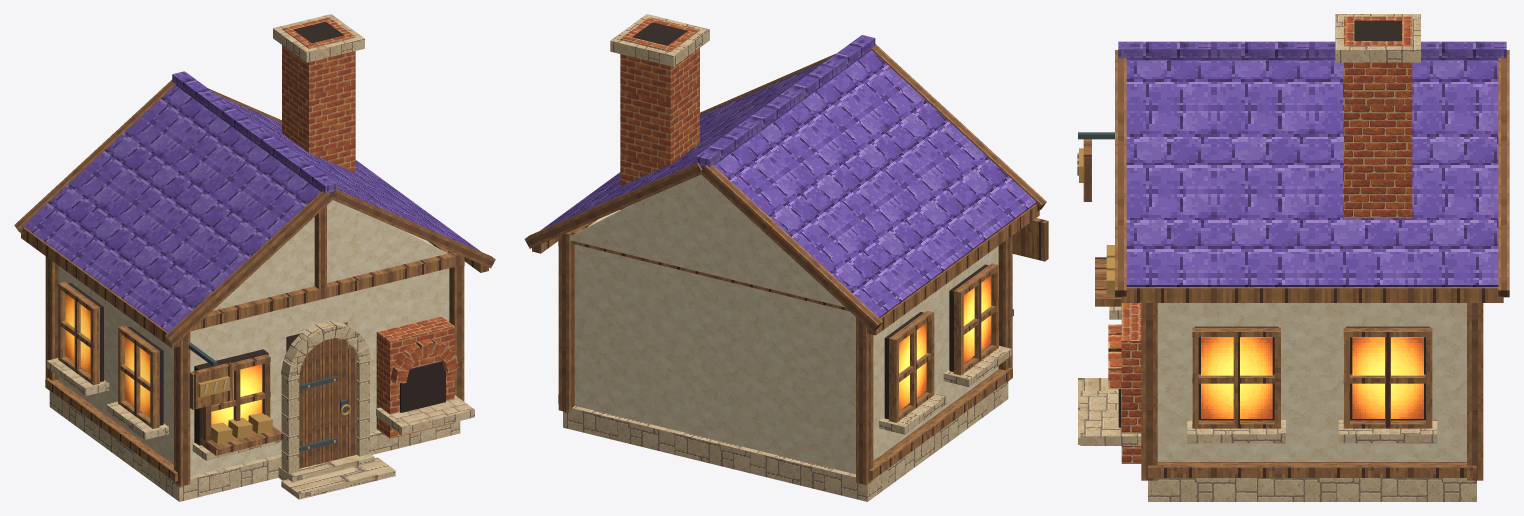
The picture shows the model from 3 angles, left to right: view 1: azimuth 30°, elevation 25°; view 2: azimuth 150°, elevation 25°; view 3: azimuth 270°, elevation 25°; orthographic projection. The views are drawn at different scales.
Parts seen in each view (by area): view 1: Painted tiled roof, Cream bakery walls, Infilled gable, Brick flue, Dressed limestone footing, Painted tiled roof.001, Gable collar, Brick oven breast, Tile ridge cap, Oak bargeboard, Corner timber, Shop side timber band (+29 smaller); view 2: Cream bakery walls, Painted tiled roof, Infilled gable.001, Dressed limestone footing, Brick flue, Painted tiled roof.001, Tile ridge cap, Oak bargeboard.001, Corner timber.003, Corner timber.001, Shop side timber band, Eave fascia (+15 smaller); view 3: Painted tiled roof.001, Cream bakery walls, Brick flue, Dressed limestone footing, Tile ridge cap, Eave fascia.001, Shop side timber band.002, Shop side warm panes.002, Shop side warm panes.003, Brick oven breast, Corner timber.002, Corner timber.003 (+24 smaller).
Boxes of the visible parts, <box> form: Painted tiled roof: <box>23,85,320,332</box>; Cream bakery walls: <box>58,233,449,476</box>; Infilled gable: <box>213,200,446,310</box>; Brick flue: <box>282,17,355,172</box>; Dressed limestone footing: <box>49,391,460,501</box>; Painted tiled roof.001: <box>217,95,480,251</box>; Gable collar: <box>190,252,463,331</box>; Brick oven breast: <box>376,316,454,438</box>; Tile ridge cap: <box>172,71,337,194</box>; Oak bargeboard: <box>165,191,333,345</box>; Corner timber: <box>174,332,190,486</box>; Shop side timber band: <box>45,378,177,481</box>; Cream bakery walls: <box>575,210,998,474</box>; Painted tiled roof: <box>714,50,1036,317</box>; Infilled gable.001: <box>570,174,844,307</box>; Dressed limestone footing: <box>563,382,1008,501</box>; Brick flue: <box>620,17,699,209</box>; Painted tiled roof.001: <box>540,61,825,230</box>; Tile ridge cap: <box>696,35,875,168</box>; Oak bargeboard.001: <box>700,165,882,332</box>; Corner timber.003: <box>558,229,576,412</box>; Corner timber.001: <box>856,317,873,485</box>; Shop side timber band: <box>869,367,1012,479</box>; Eave fascia: <box>867,204,1039,335</box>; Painted tiled roof.001: <box>1126,60,1498,286</box>; Cream bakery walls: <box>1157,303,1466,461</box>; Brick flue: <box>1344,16,1412,218</box>; Dressed limestone footing: <box>1148,478,1476,501</box>; Tile ridge cap: <box>1118,41,1506,60</box>; Eave fascia.001: <box>1121,287,1503,302</box>; Shop side timber band.002: <box>1148,462,1476,477</box>; Shop side warm panes.002: <box>1201,337,1272,418</box>; Shop side warm panes.003: <box>1352,337,1423,418</box>; Brick oven breast: <box>1121,303,1141,463</box>; Corner timber.002: <box>1141,303,1157,480</box>; Corner timber.003: <box>1467,303,1483,480</box>.
Bounding box in the file's own units: 5.81 × 5.9 × 5.26.
Materials: 12 (8 with a texture image).
